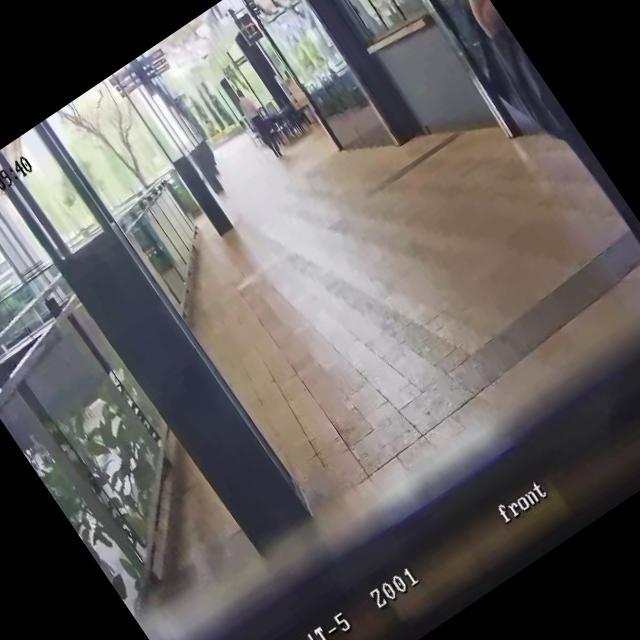person: (424, 0, 640, 270), (230, 84, 290, 162)
